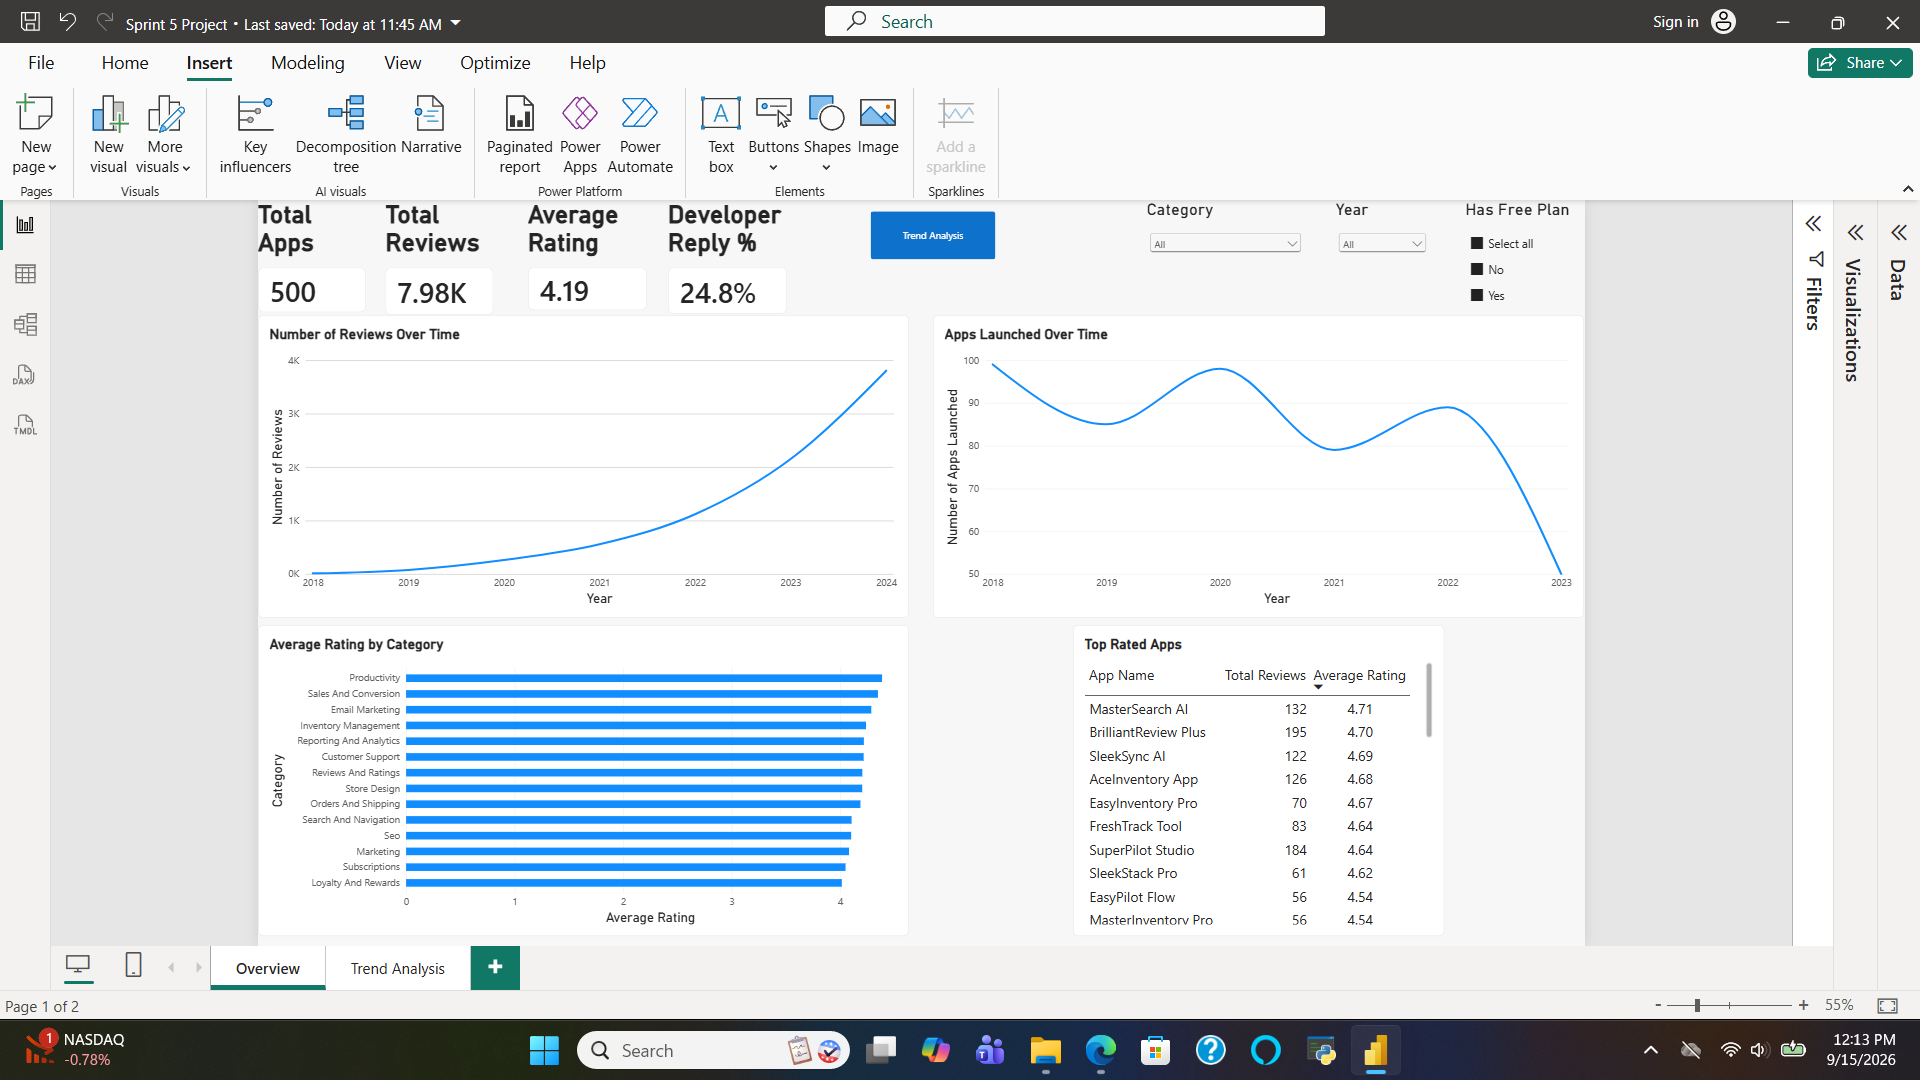

Layout of this report page (visuals, bound fields, positions):
{"tool":"powerbi","page":{"name":"Overview","canvas":[1920,1080],"ordinal":0},"visuals":[{"type":"cardVisual","title":"Total Apps","fields":{"Data":["apps.Total Apps"]},"box":[0,0,156.4,162.6],"z":0},{"type":"cardVisual","title":"Total Reviews","fields":{"Data":["reviews.Total Reviews"]},"box":[185.2,0,156.4,166.7],"z":1000},{"type":"cardVisual","title":"Average Rating","fields":{"Data":["reviews.Average Rating"]},"box":[391.1,0,172.9,160.5],"z":2000},{"type":"cardVisual","title":"Developer Reply %","fields":{"Data":["reviews.Developer Reply %"]},"box":[592.8,0,172.9,164.7],"z":3000},{"type":"slicer","title":"Category","fields":{"Values":["apps.category name"]},"box":[1286.5,0,228.5,102.9],"z":4000},{"type":"slicer","title":"Year","fields":{"Values":["Dim_Date.Year"]},"box":[1560.2,0,135.8,102.9],"z":5000},{"type":"slicer","title":"Has Free Plan","fields":{"Values":["apps.has free plan"]},"box":[1747.5,0,172.9,166.7],"z":6000},{"type":"lineChart","title":"Number of Reviews Over Time","fields":{"Category":["Dim_Date.Year"],"Y":["reviews.Total Reviews"]},"box":[0,166.7,942.7,438.4],"z":7000},{"type":"lineChart","title":"Apps Launched Over Time","fields":{"Category":["apps.launch date.Variation.Date Hierarchy.Year","apps.launch date.Variation.Date Hierarchy.Quarter","apps.launch date.Variation.Date Hierarchy.Month","apps.launch date.Variation.Date Hierarchy.Day"],"Y":["apps.Total Apps"]},"box":[977.7,166.7,942.7,438.4],"z":8000},{"type":"clusteredBarChart","title":"Average Rating by Category","fields":{"Category":["apps.category name"],"Y":["reviews.Average Rating"]},"box":[0,615.4,942.7,450.8],"z":9000},{"type":"tableEx","title":"Top Rated Apps","fields":{"Values":["apps.app name","reviews.Total Reviews","reviews.Average Rating"]},"box":[1179.4,615.4,537.2,450.8],"z":10000},{"type":"actionButton","box":[887.1,16.5,181.1,70],"z":11000}]}

Visuals, with their boxes on the page's 1920x1080 design canvas (x1, y1, x2, y2). These are canvas units, not pixel positions in the 1920x1080 screenshot, which may show the page scaled, cropped or inside an application window:
"Total Apps" cardVisual: detection(0, 0, 156, 163)
"Total Reviews" cardVisual: detection(185, 0, 342, 167)
"Average Rating" cardVisual: detection(391, 0, 564, 160)
"Developer Reply %" cardVisual: detection(593, 0, 766, 165)
"Category" slicer: detection(1286, 0, 1515, 103)
"Year" slicer: detection(1560, 0, 1696, 103)
"Has Free Plan" slicer: detection(1748, 0, 1920, 167)
"Number of Reviews Over Time" lineChart: detection(0, 167, 943, 605)
"Apps Launched Over Time" lineChart: detection(978, 167, 1920, 605)
"Average Rating by Category" clusteredBarChart: detection(0, 615, 943, 1066)
"Top Rated Apps" tableEx: detection(1179, 615, 1717, 1066)
actionButton: detection(887, 16, 1068, 86)
